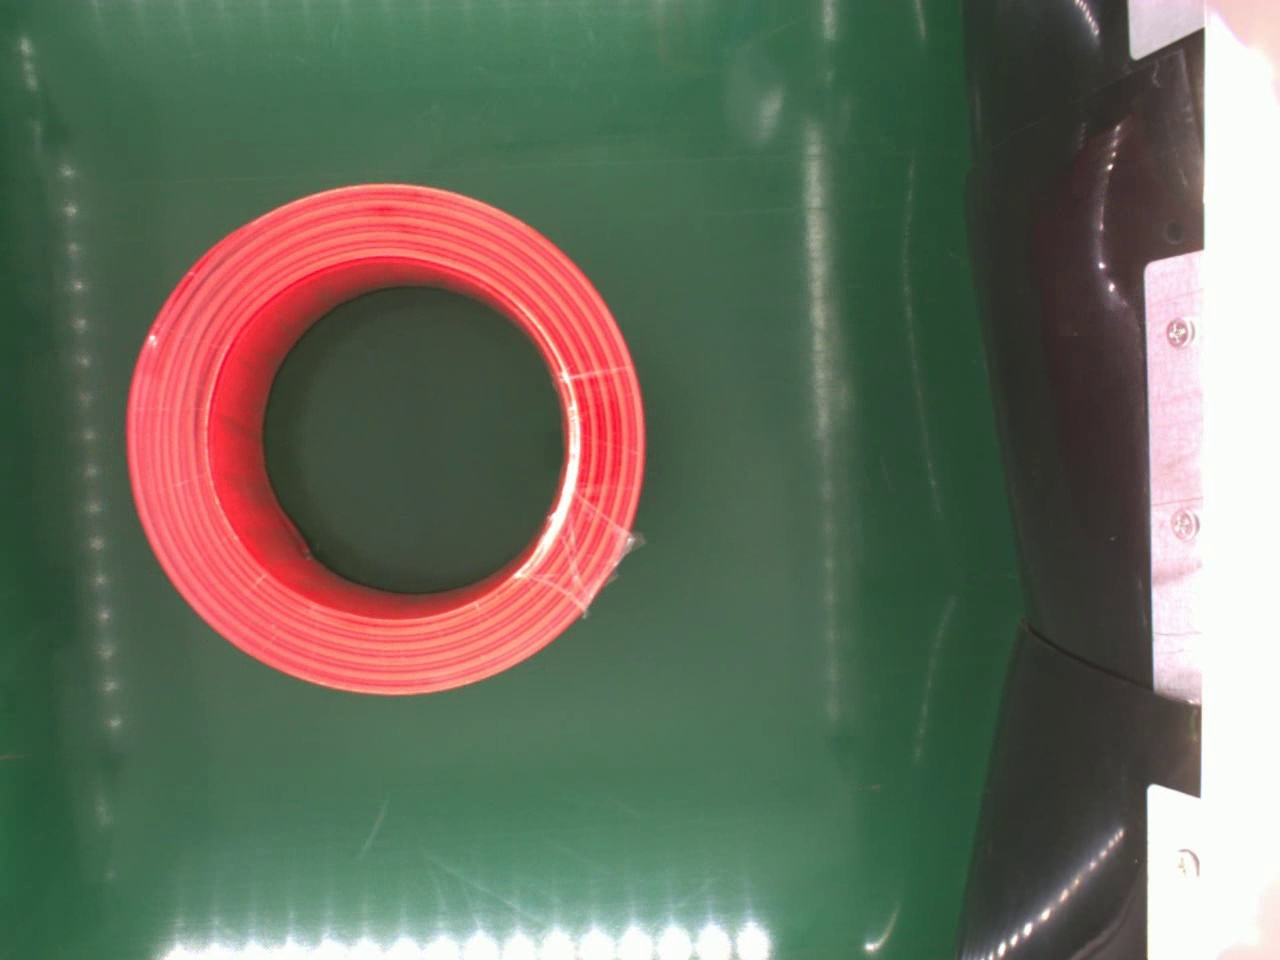red: (123, 182, 649, 695)
